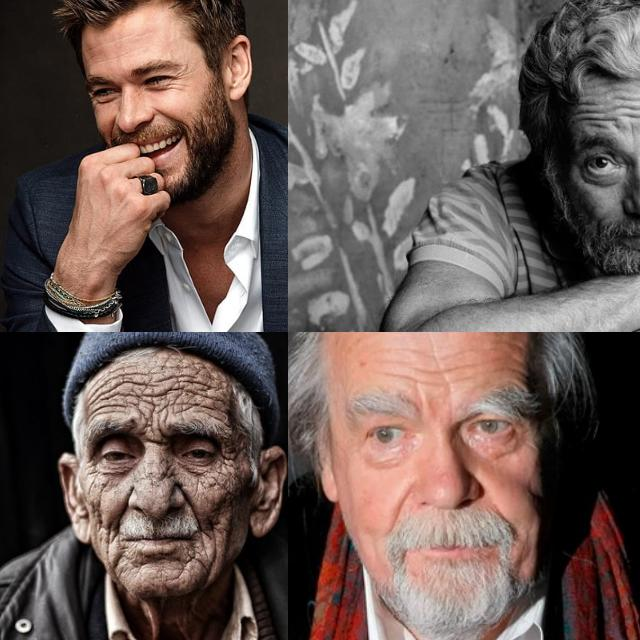bunny_line: (154, 458, 182, 482)
chin: (102, 542, 126, 576), (177, 552, 200, 576)
crows_feet: (218, 445, 240, 473), (173, 70, 189, 90), (89, 92, 98, 112)
forehead: (176, 375, 216, 411), (136, 375, 168, 415), (396, 364, 438, 391), (90, 385, 124, 413), (578, 99, 610, 128), (447, 356, 475, 382), (508, 360, 528, 392), (619, 95, 640, 119), (109, 49, 137, 61), (85, 44, 102, 60)
frown_line: (138, 424, 168, 446), (627, 121, 640, 147)
gummy_smile: (386, 486, 410, 532), (111, 496, 137, 530), (180, 485, 202, 523), (154, 106, 180, 124), (106, 116, 118, 140)
masseter: (202, 538, 225, 572)
